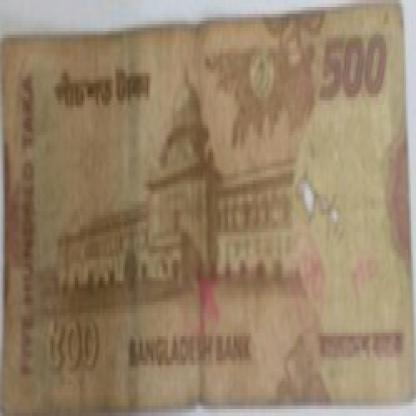500 taka: (36, 52, 176, 139), (316, 31, 400, 108)
currency: (2, 7, 414, 399)
